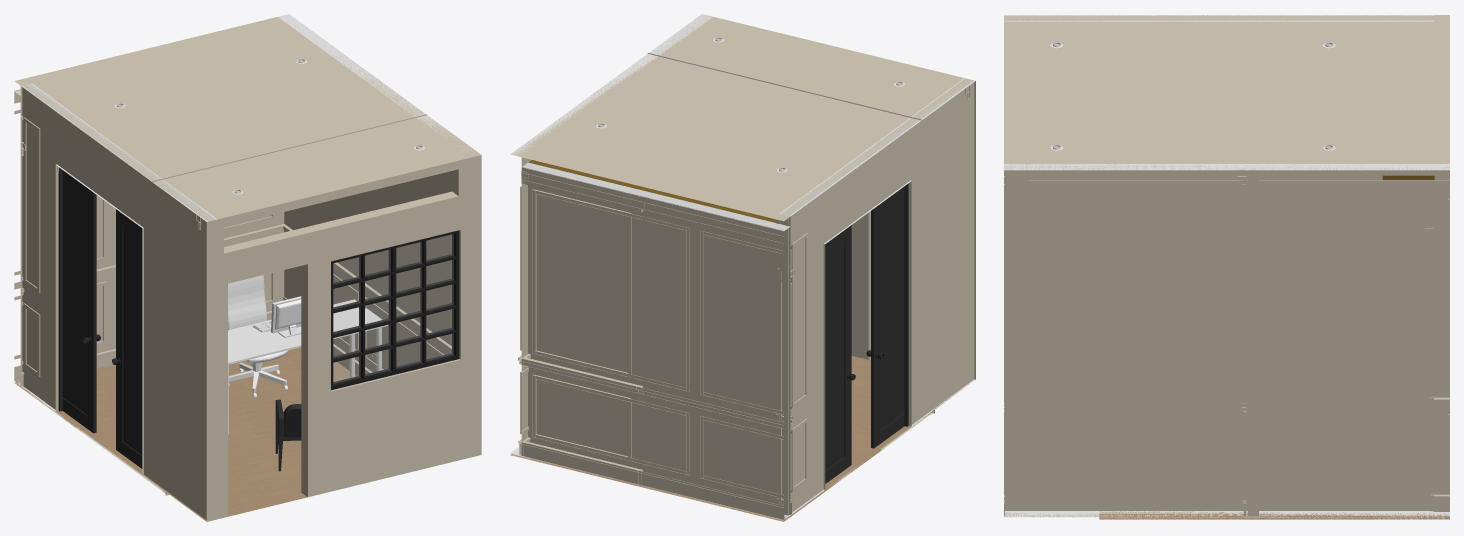
File: office-east-81424c2211f5.glb
3 views of the same model, side by side, from view 1: azimuth 30°, elevation 25°; view 2: azimuth 150°, elevation 25°; view 3: azimuth 270°, elevation 25° (orthographic). The views are drawn at different scales.
Parts seen in each view (by area): view 1: office-east-72f8f5982ac3dc36, office-east-7dc307bfa7ee071d, office-east-2575515a05775d9e, office-east-6a1144f4e43410bb, office-east-7e39e4af19a71cea, office-east-dbd60ee5c3733ed6, office-east-bc466264917d70e2, office-east-3b0077416469e01b, office-east-e2162daab8de086b, office-east-19647d6da46c2b80, office-east-c374268555806af8, office-east-cdd0c092fe0e927f (+15 smaller); view 2: office-east-19647d6da46c2b80, office-east-72f8f5982ac3dc36, office-east-2575515a05775d9e, office-east-7e39e4af19a71cea, office-east-dbd60ee5c3733ed6, office-east-7dc307bfa7ee071d, office-east-6a1144f4e43410bb, office-east-7b51444cc162b982, office-east-3b0077416469e01b, office-east-69ebde2cee50514f, office-east-99102bcd8e097289, office-east-63e99ea94d258f3b (+15 smaller); view 3: office-east-6a1144f4e43410bb, office-east-2575515a05775d9e, office-east-dbd60ee5c3733ed6, office-east-7dc307bfa7ee071d, office-east-2c29ddcb8551cb02, office-east-e54d813e60c9e7c4, office-east-0e637d2be41161fb, office-east-19647d6da46c2b80, office-east-dad9e1d33ae8d77b, office-east-3b0077416469e01b, office-east-09d9be919fb5379f, office-east-0811b6b476584948 (+4 smaller).
Boxes of the visible parts, x1=… form: office-east-72f8f5982ac3dc36: x1=20, y1=83, x2=218, y2=521; office-east-7dc307bfa7ee071d: x1=212, y1=153, x2=470, y2=518; office-east-2575515a05775d9e: x1=14, y1=15, x2=427, y2=181; office-east-6a1144f4e43410bb: x1=278, y1=14, x2=481, y2=457; office-east-7e39e4af19a71cea: x1=58, y1=167, x2=142, y2=468; office-east-dbd60ee5c3733ed6: x1=153, y1=115, x2=481, y2=220; office-east-bc466264917d70e2: x1=333, y1=234, x2=453, y2=383; office-east-3b0077416469e01b: x1=14, y1=347, x2=356, y2=493; office-east-e2162daab8de086b: x1=228, y1=275, x2=388, y2=434; office-east-19647d6da46c2b80: x1=15, y1=90, x2=284, y2=384; office-east-c374268555806af8: x1=166, y1=459, x2=307, y2=521; office-east-cdd0c092fe0e927f: x1=23, y1=117, x2=40, y2=293; office-east-19647d6da46c2b80: x1=522, y1=162, x2=790, y2=518; office-east-72f8f5982ac3dc36: x1=779, y1=78, x2=975, y2=515; office-east-2575515a05775d9e: x1=511, y1=55, x2=911, y2=221; office-east-7e39e4af19a71cea: x1=825, y1=183, x2=908, y2=483; office-east-dbd60ee5c3733ed6: x1=647, y1=15, x2=964, y2=120; office-east-7dc307bfa7ee071d: x1=707, y1=17, x2=960, y2=359; office-east-6a1144f4e43410bb: x1=510, y1=14, x2=712, y2=455; office-east-7b51444cc162b982: x1=521, y1=167, x2=784, y2=243; office-east-3b0077416469e01b: x1=510, y1=389, x2=934, y2=521; office-east-69ebde2cee50514f: x1=532, y1=189, x2=689, y2=391; office-east-99102bcd8e097289: x1=521, y1=442, x2=784, y2=519; office-east-63e99ea94d258f3b: x1=522, y1=441, x2=642, y2=484; office-east-6a1144f4e43410bb: x1=1004, y1=164, x2=1449, y2=517; office-east-2575515a05775d9e: x1=1130, y1=15, x2=1449, y2=170; office-east-dbd60ee5c3733ed6: x1=1004, y1=15, x2=1130, y2=170; office-east-7dc307bfa7ee071d: x1=1004, y1=21, x2=1019, y2=494; office-east-2c29ddcb8551cb02: x1=1004, y1=494, x2=1431, y2=510; office-east-e54d813e60c9e7c4: x1=1029, y1=180, x2=1449, y2=194; office-east-0e637d2be41161fb: x1=1247, y1=169, x2=1258, y2=517; office-east-19647d6da46c2b80: x1=1434, y1=175, x2=1449, y2=494; office-east-dad9e1d33ae8d77b: x1=1029, y1=397, x2=1431, y2=404; office-east-3b0077416469e01b: x1=1099, y1=511, x2=1449, y2=519; office-east-09d9be919fb5379f: x1=1005, y1=414, x2=1246, y2=485; office-east-0811b6b476584948: x1=1004, y1=21, x2=1435, y2=25.
Bounding box in the file's own units: 2.88 × 3.05 × 3.49.
Materials: 19 (4 with a texture image).
